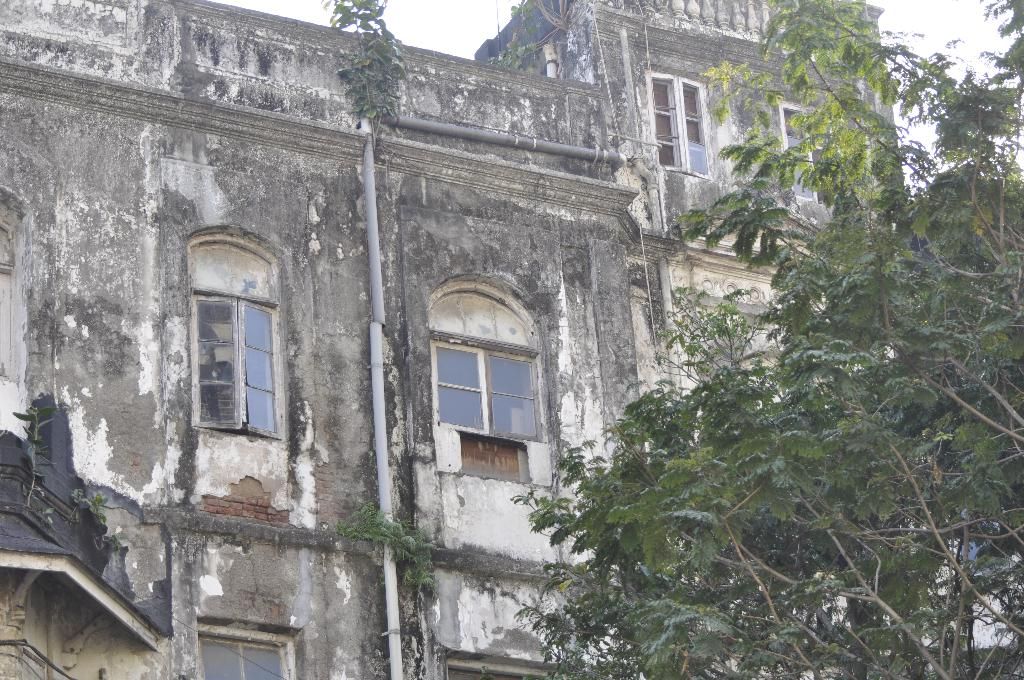Tree: (510, 0, 1023, 679)
